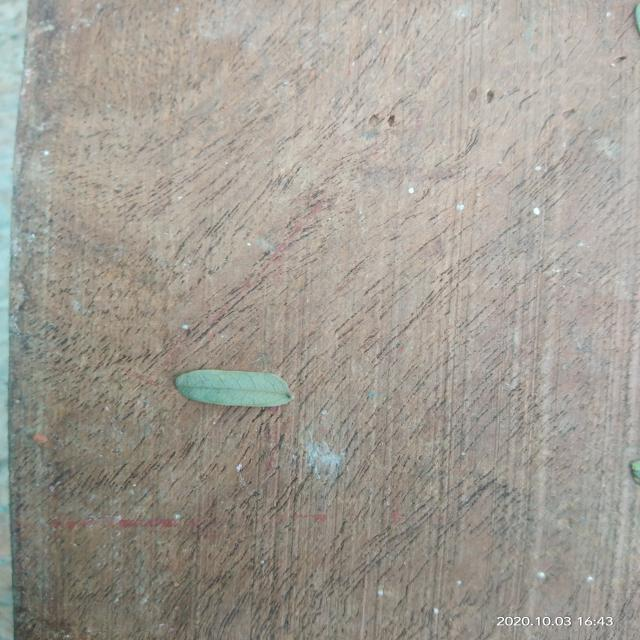tamarind: (175, 370, 293, 406)
